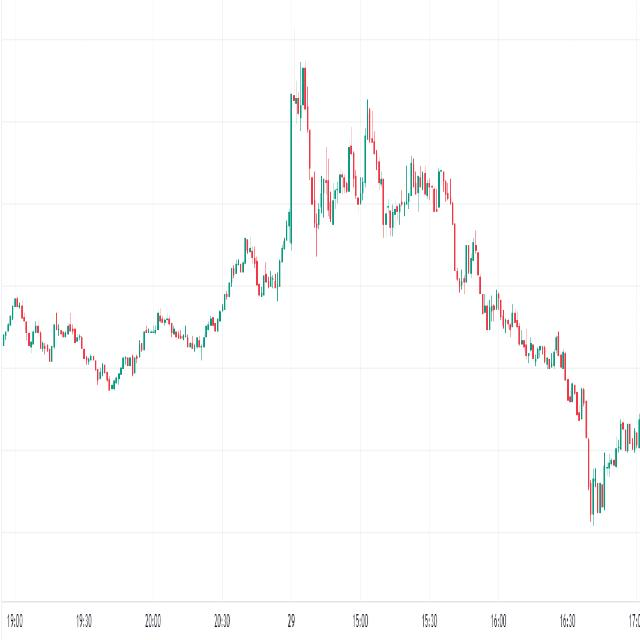Triangle: (284, 21, 473, 297)
